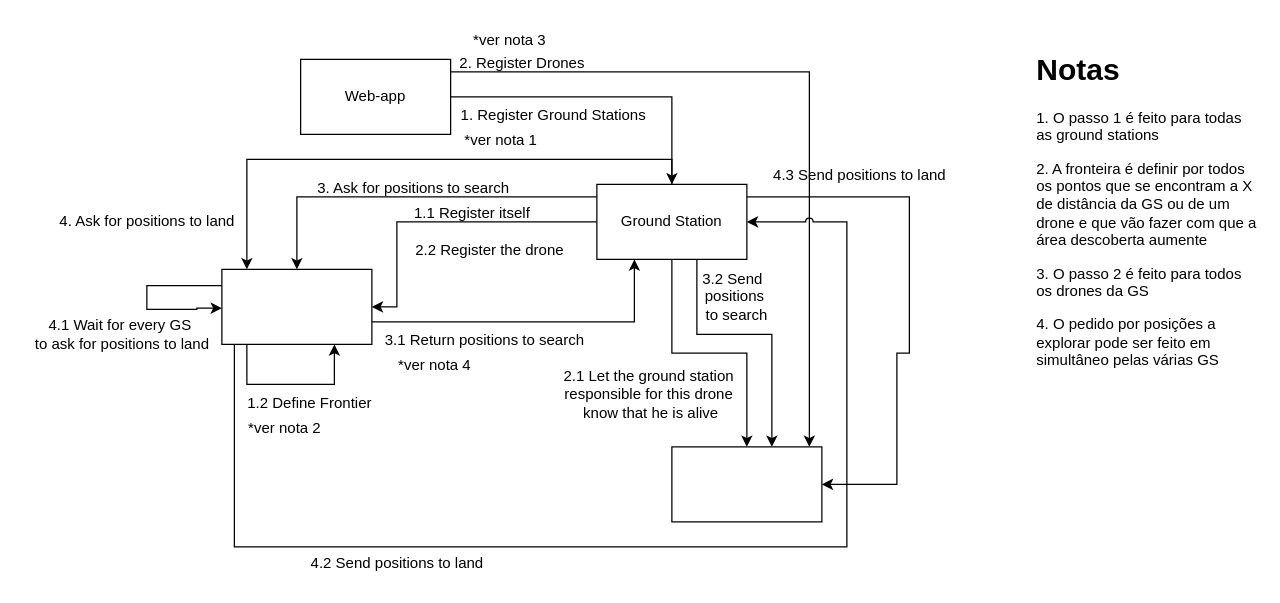
Some shapes in this 1280 by 603 pixel diagram are drawn without their labels. The box of each missing label's shape, as (x1, y1, x2, y2) in pixels:
API: (221, 268, 372, 344)
Drones: (671, 446, 822, 522)
